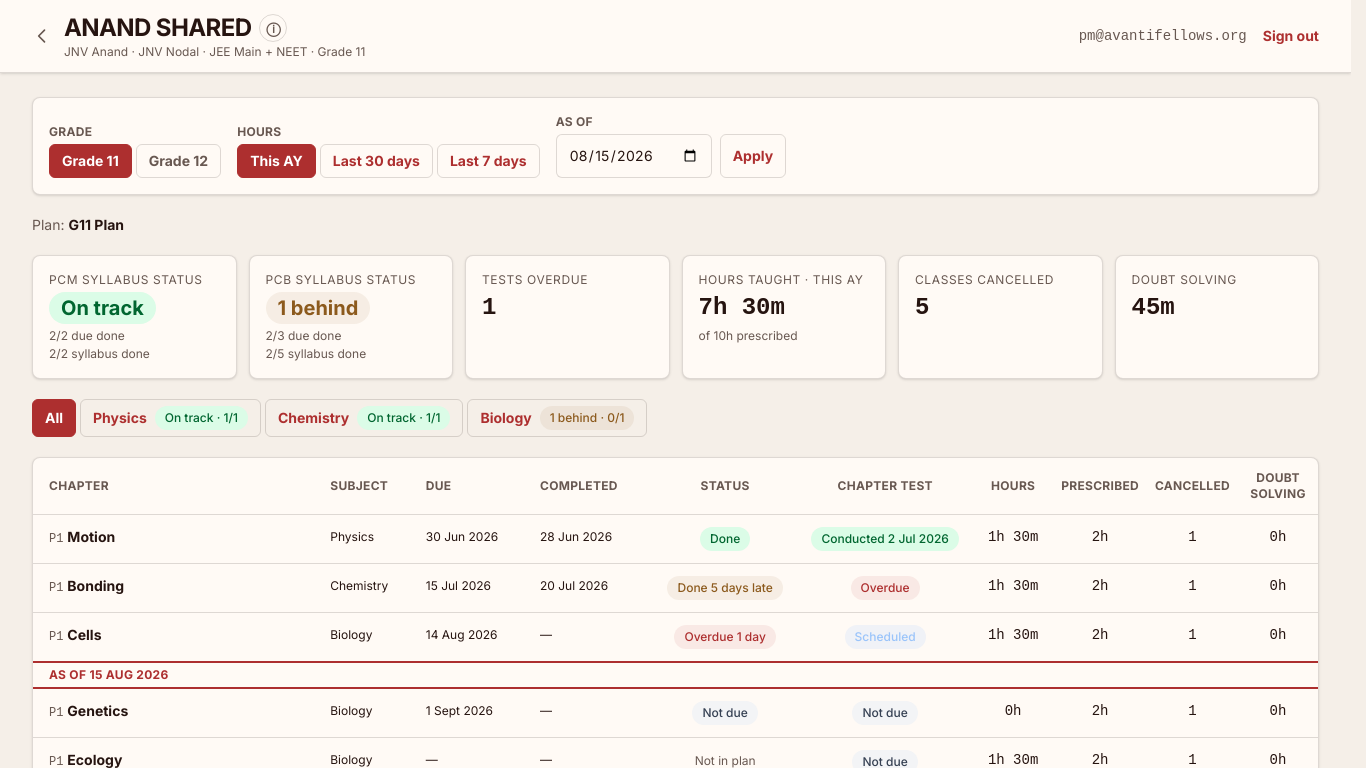
Test: Chapter timeline page › puts the How to read this page guide beside the Centre's name
Expected: the heading "Anand Shared" is shown, 64,12 -> 252,44
Click the button named "How to read this page" at [274, 28], box 260,14 -> 288,42
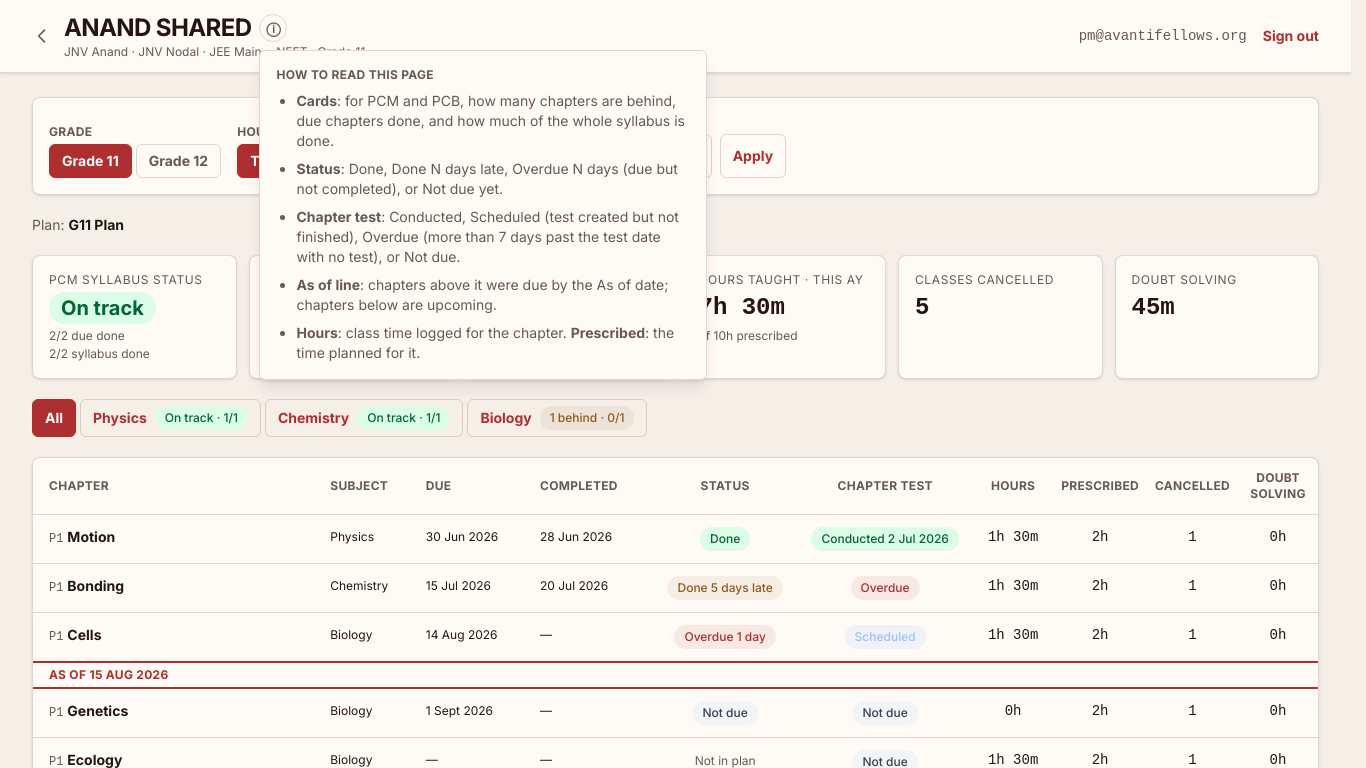
Now the list items read "Cards: for PCM and PCB, how many chapters are behind, due chapters done, and how much of the whole syllabus is done.", "Status: Done, Done N days late, Overdue N days (due but not completed), or Not due yet.", "Chapter test: Conducted, Scheduled (test created but not finished), Overdue (more than 7 days past the test date with no test), or Not due.", "As of line: chapters above it were due by the As of date; chapters below are upcoming.", "Hours: class time logged for the chapter. Prescribed: the time planned for it.", in this order, box 296,91 -> 690,151; 296,159 -> 690,199; 296,207 -> 690,267; 296,275 -> 690,315; 296,323 -> 690,363
